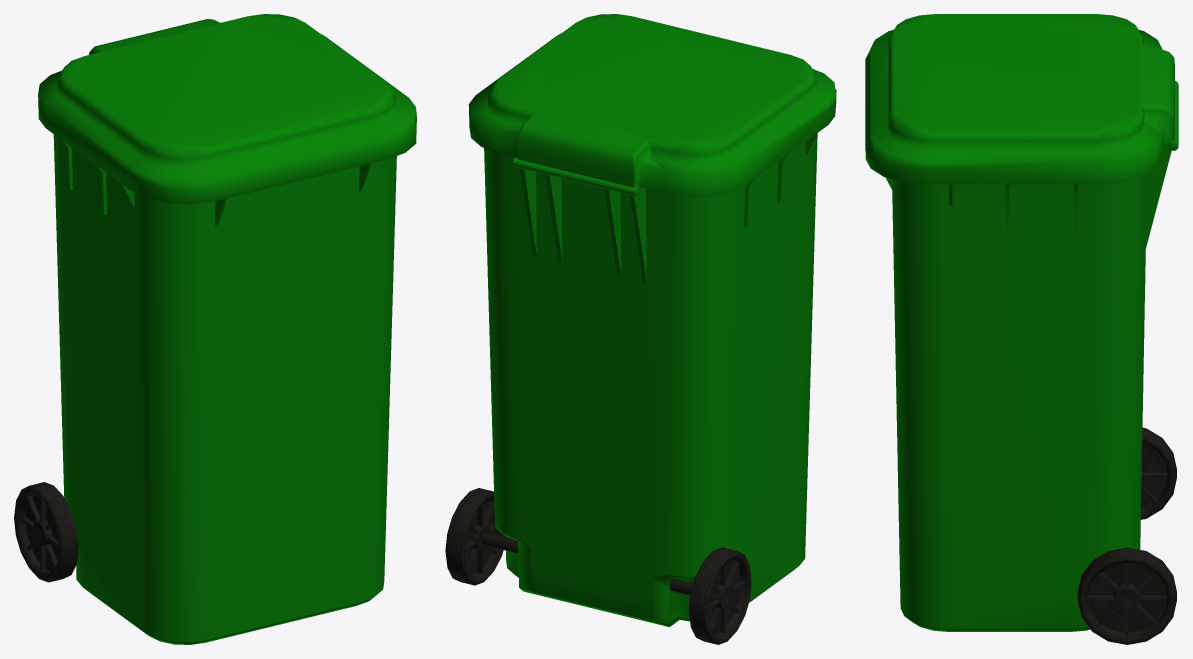
File: not-full.glb
3 views of the same model, side by side, from view 1: azimuth 30°, elevation 25°; view 2: azimuth 150°, elevation 25°; view 3: azimuth 270°, elevation 25° (orthographic). The views are drawn at different scales.
Visible parts, largest first — view 1: polySurface52; view 2: polySurface52; view 3: polySurface52.
Boxes of the visible parts, bbox=[...] form: polySurface52: bbox=[14, 14, 416, 644]; polySurface52: bbox=[445, 14, 836, 644]; polySurface52: bbox=[865, 14, 1178, 644].
Size of the model in its own units: 77 by 134 by 74.63.
2 materials, 2 textured.
